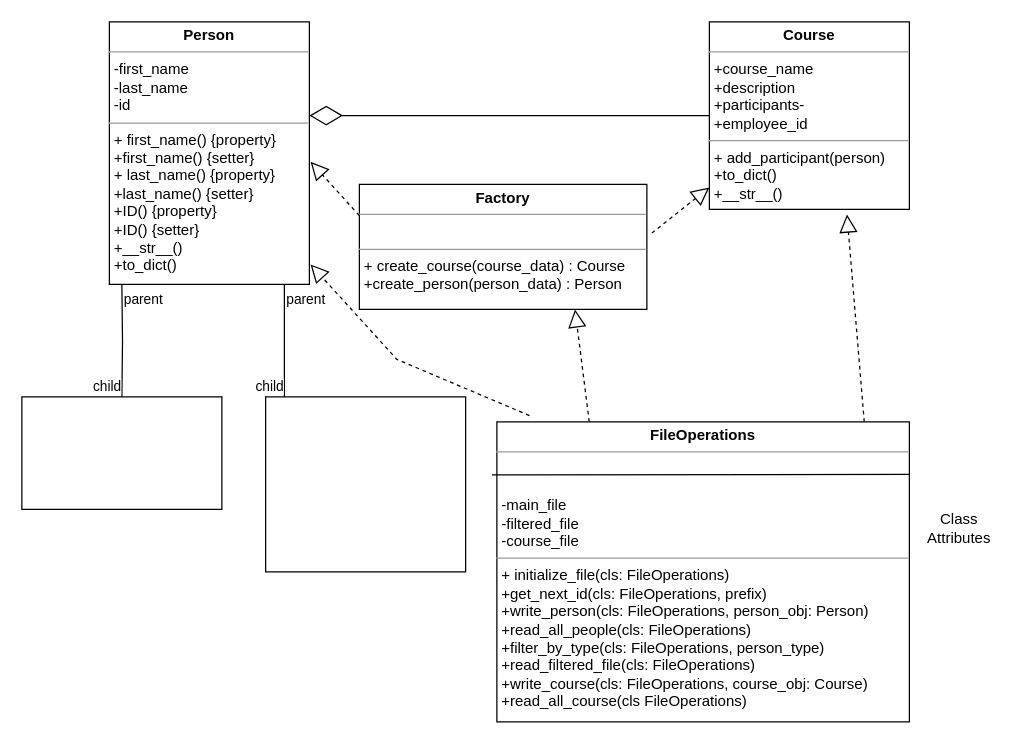
The diagram is 1019 pixels wide and 744 high, and some of its shapes have lost their labels. Each missing label, with the centre of its shape:
"Customer -id" goes at (x=121, y=452).
"Employee -id -position + position() {property} +position() {setter}" goes at (x=365, y=484).
